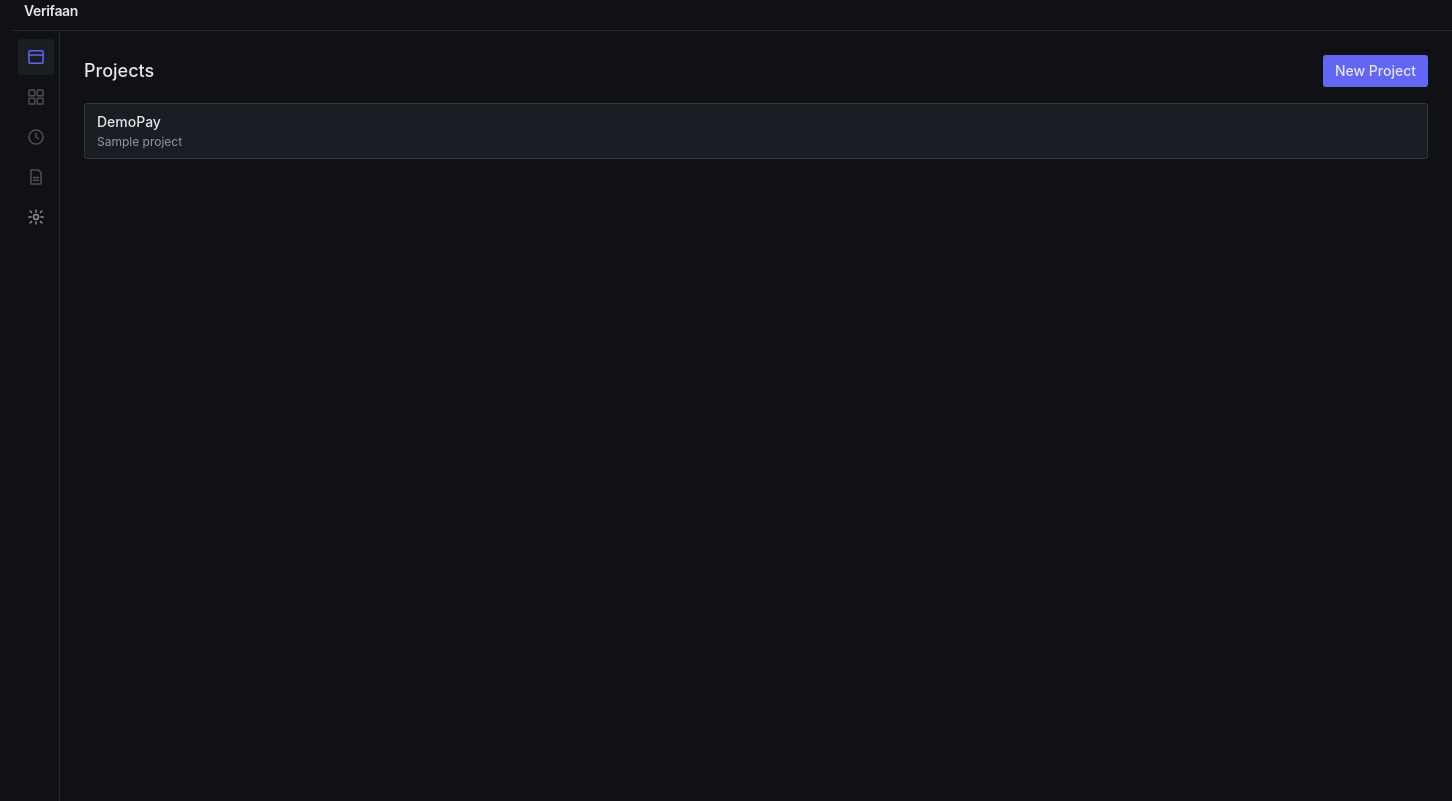
Scenario: AppRoutes › navigates to /projects/:id when a project is selected from the list
Click the button "DemoPay Sample project" at x=129, y=122, box top-left (84, 103), bottom-right (1428, 159)
(page scrolled)
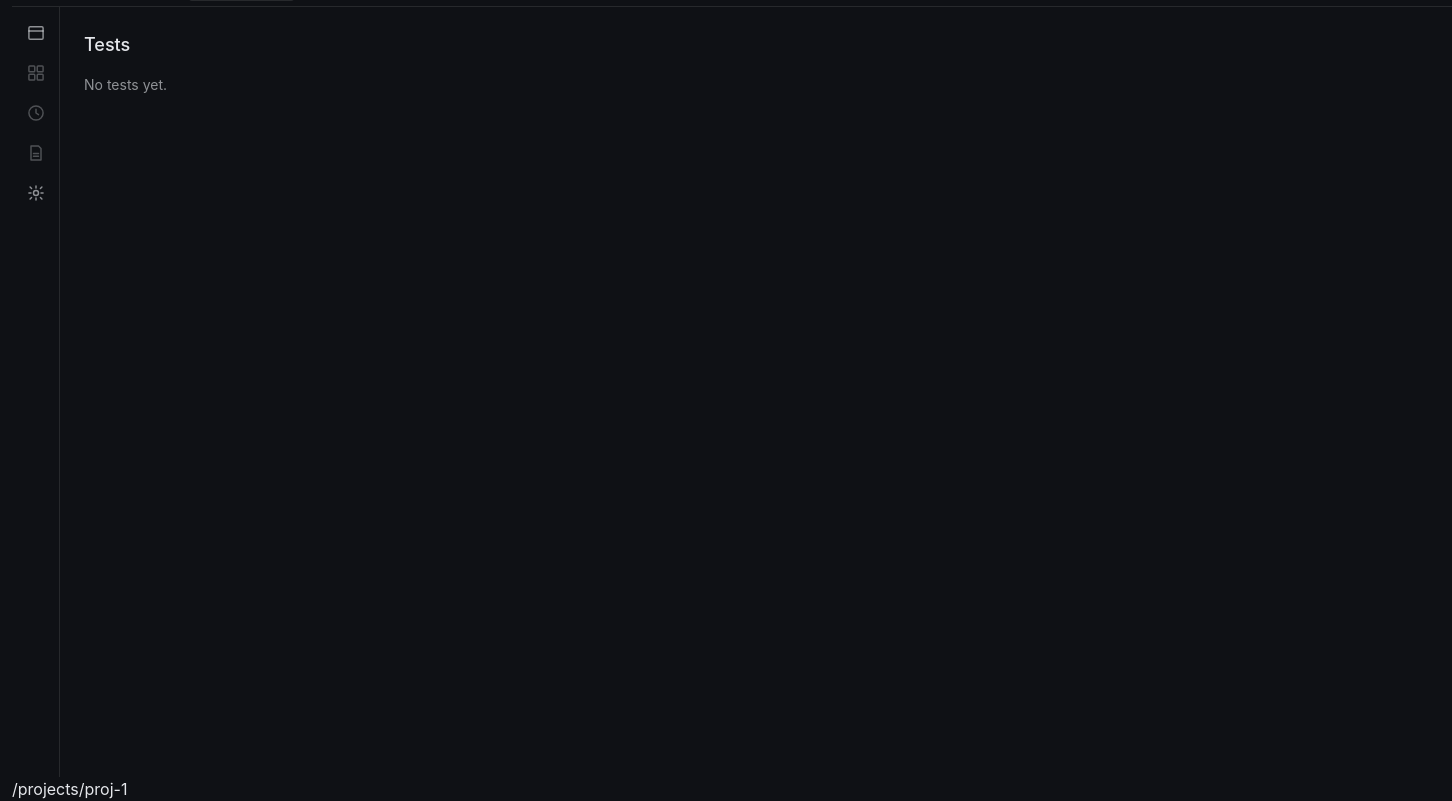
Now the text with test id "location-display" reads "/projects/proj-1", box top-left (12, 779), bottom-right (127, 799)
